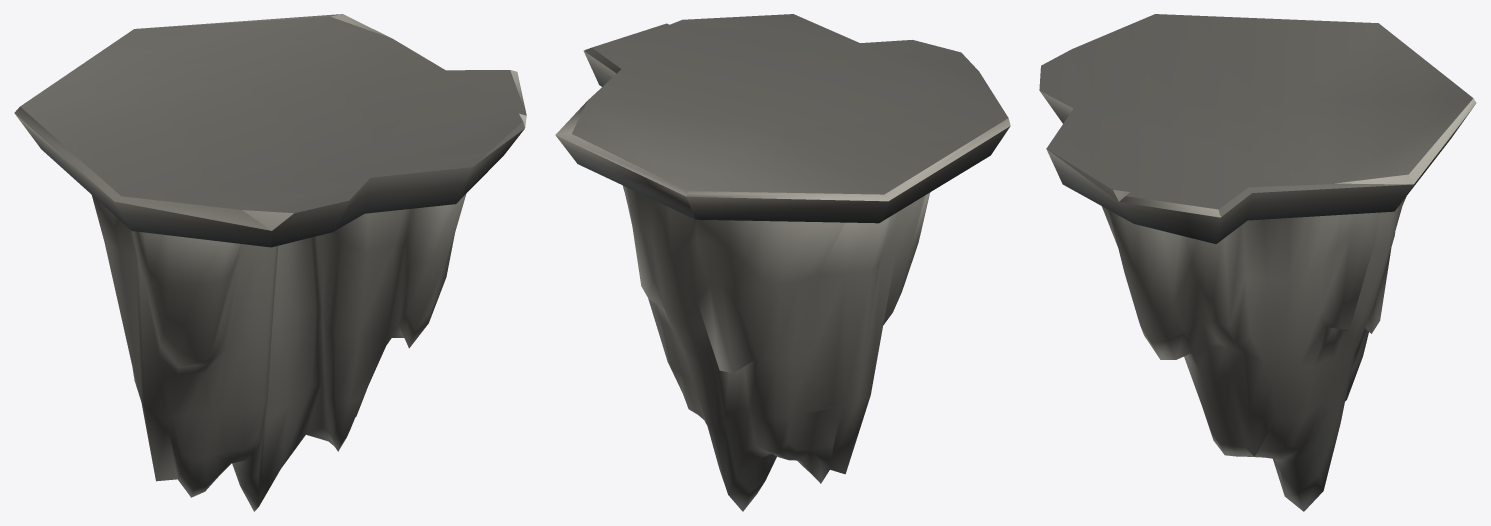
Rendered from Isle_01.fbx.
3 views of the same model, side by side, from view 1: azimuth 30°, elevation 25°; view 2: azimuth 150°, elevation 25°; view 3: azimuth 270°, elevation 25° (orthographic). The views are drawn at different scales.
Visible parts, largest first — view 1: floe.016; view 2: floe.016; view 3: floe.016.
Part boxes in pixels (x1,y1,x2,y2): floe.016: (14,14,526,511); floe.016: (555,14,1010,511); floe.016: (1039,14,1476,511).
Bounding box in the file's own units: 1359 × 1268 × 1255.
